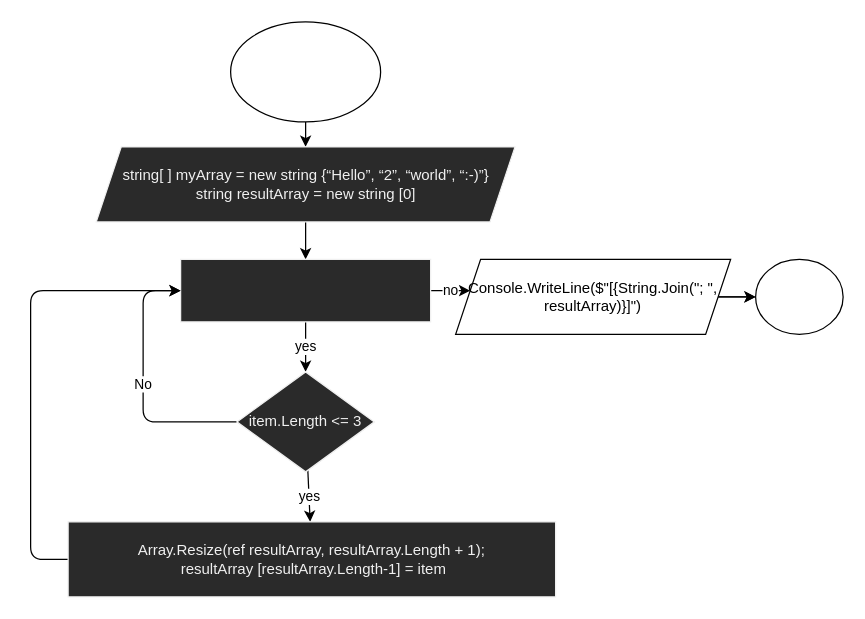
This 865x619 diagram has some shape labels left out. The box of each missing label's shape, as (x1, y1, x2, y2) in pixels:
foreach (var item in myArray): (179, 258, 431, 322)
Start: (229, 21, 381, 122)
